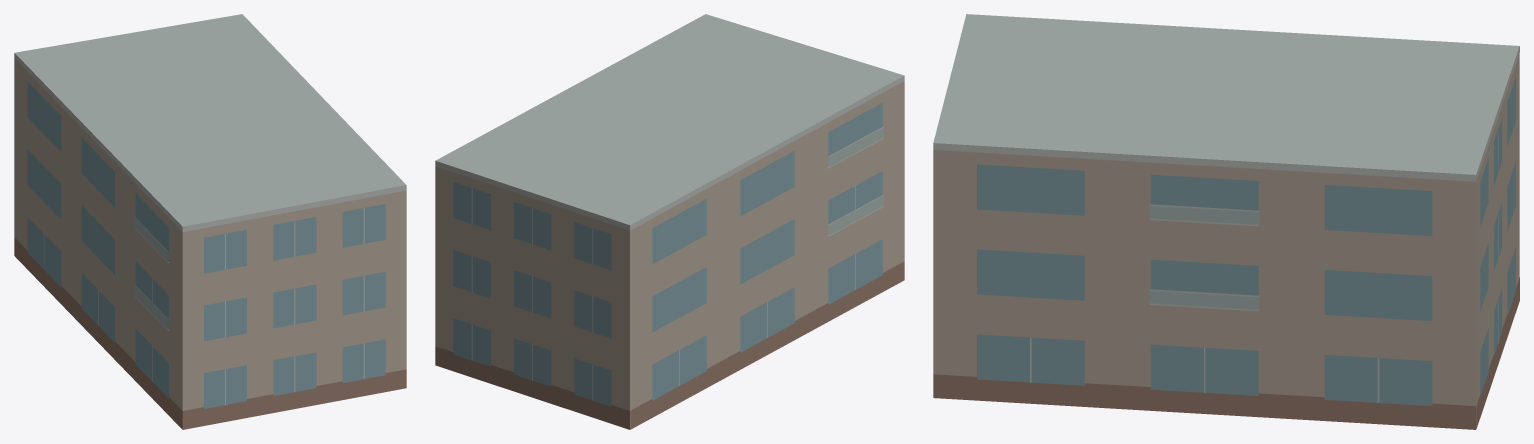
File: survey-upis-32747725.glb
3 renders of one model, left to right at view 1: azimuth 30°, elevation 25°; view 2: azimuth 150°, elevation 25°; view 3: azimuth 270°, elevation 25°, orthographic. The views are drawn at different scales.
Visible parts, largest first — view 1: survey-upis-32747725.tmp; view 2: survey-upis-32747725.tmp; view 3: survey-upis-32747725.tmp.
Part boxes in pixels (x1=…): survey-upis-32747725.tmp: x1=14, y1=14, x2=406, y2=429; survey-upis-32747725.tmp: x1=435, y1=14, x2=904, y2=429; survey-upis-32747725.tmp: x1=933, y1=14, x2=1519, y2=429.
Size of the model in its own units: 12.4 by 9.15 by 19.09.
